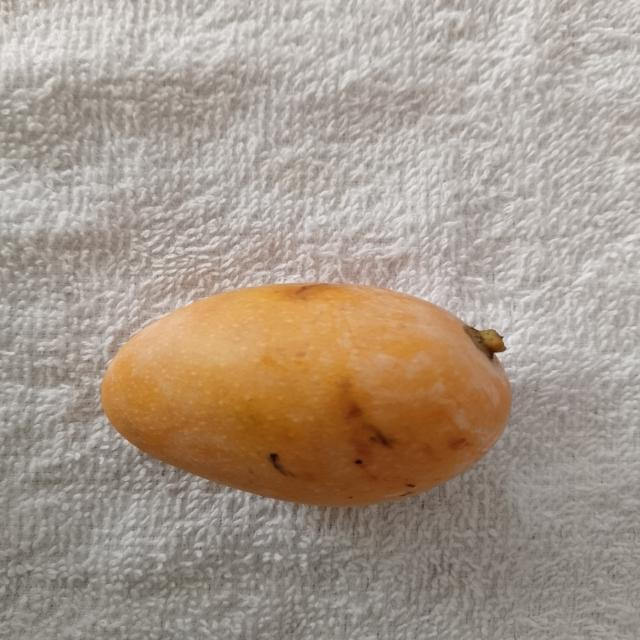mango: (102, 284, 510, 505)
